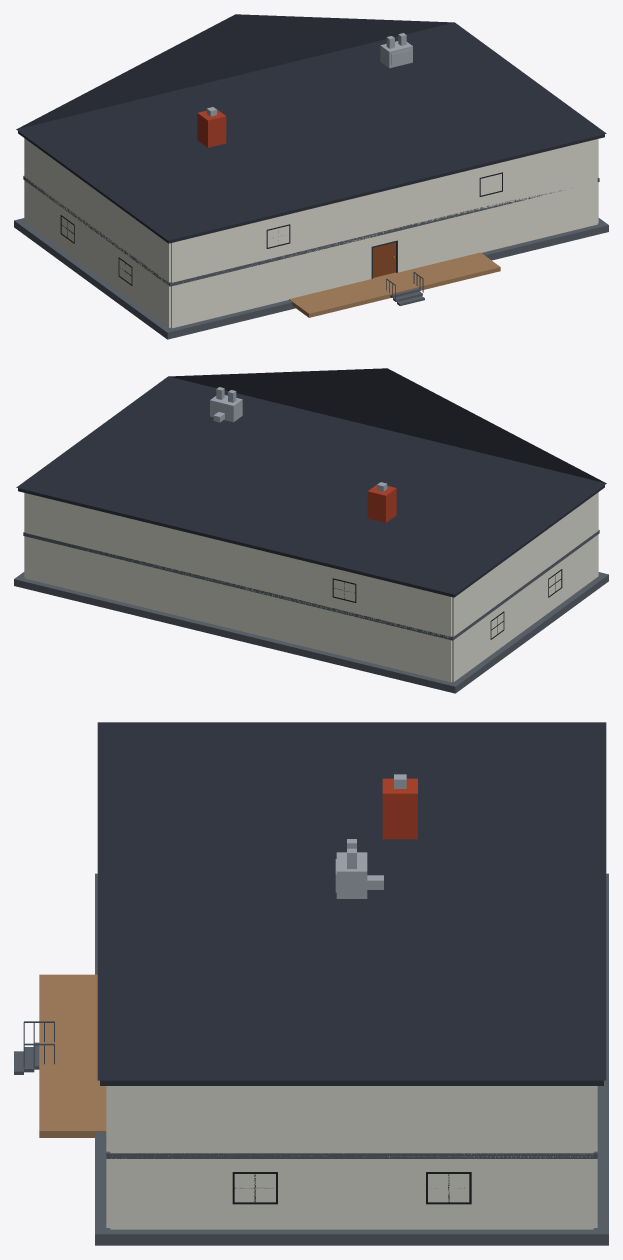
The model's file is bp_proj1_1788450966155_American_Farmhouse_201225_full_pdf.obj.
3 views of the same model, one above another, from view 1: azimuth 30°, elevation 25°; view 2: azimuth 150°, elevation 25°; view 3: azimuth 270°, elevation 25° (orthographic). The views are drawn at different scales.
Visible parts, largest first — view 1: Roof_Gable_Pitch, Ext_Wall_South_2F, Ext_Wall_South_R, Ext_Wall_South_L, Ext_Wall_West, Ext_Wall_West_2F, Foundation_Slab, Porch_Deck, Roof_Cap_Base, Second_Floor_Slab, Masonry_Chimney, Main_Front_Door_Panel (+1 smaller); view 2: Roof_Gable_Pitch, Ext_Wall_North, Ext_Wall_North_2F, Foundation_Slab, Ext_Wall_West, Ext_Wall_West_2F, Second_Floor_Slab, Roof_Cap_Base, Masonry_Chimney, Roof_Ridge_Vent_HVAC_Unit; view 3: Roof_Gable_Pitch, Ext_Wall_East, Ext_Wall_East_2F, Foundation_Slab, Porch_Deck, Roof_Cap_Base, Second_Floor_Slab, Masonry_Chimney, Roof_Ridge_Vent_HVAC_Unit.
Boxes of the visible parts, x1,y1,x2,y2 form: Roof_Gable_Pitch: [16, 14, 606, 240]; Ext_Wall_South_2F: [171, 139, 597, 282]; Ext_Wall_South_R: [398, 180, 597, 272]; Ext_Wall_South_L: [171, 236, 371, 328]; Ext_Wall_West: [24, 180, 170, 327]; Ext_Wall_West_2F: [24, 138, 170, 283]; Foundation_Slab: [14, 218, 608, 339]; Porch_Deck: [289, 252, 500, 317]; Roof_Cap_Base: [18, 131, 604, 243]; Second_Floor_Slab: [23, 176, 599, 286]; Masonry_Chimney: [197, 109, 226, 147]; Main_Front_Door_Panel: [373, 242, 395, 277]; Roof_Gable_Pitch: [16, 368, 606, 594]; Ext_Wall_North: [25, 536, 451, 682]; Ext_Wall_North_2F: [25, 493, 451, 637]; Foundation_Slab: [14, 572, 608, 693]; Ext_Wall_West: [452, 534, 598, 681]; Ext_Wall_West_2F: [452, 492, 598, 636]; Second_Floor_Slab: [23, 530, 599, 640]; Roof_Cap_Base: [18, 485, 604, 597]; Masonry_Chimney: [367, 484, 396, 522]; Roof_Ridge_Vent_HVAC_Unit: [210, 395, 242, 422]; Roof_Gable_Pitch: [97, 722, 606, 1080]; Ext_Wall_East: [110, 1156, 593, 1229]; Ext_Wall_East_2F: [110, 1086, 593, 1155]; Foundation_Slab: [95, 873, 608, 1245]; Porch_Deck: [39, 974, 106, 1137]; Roof_Cap_Base: [100, 1080, 603, 1085]; Second_Floor_Slab: [106, 1151, 597, 1158]; Masonry_Chimney: [382, 778, 417, 839]; Roof_Ridge_Vent_HVAC_Unit: [336, 852, 367, 898].
Bounding box in the file's own units: 33.7 × 13.06 × 23.5.
